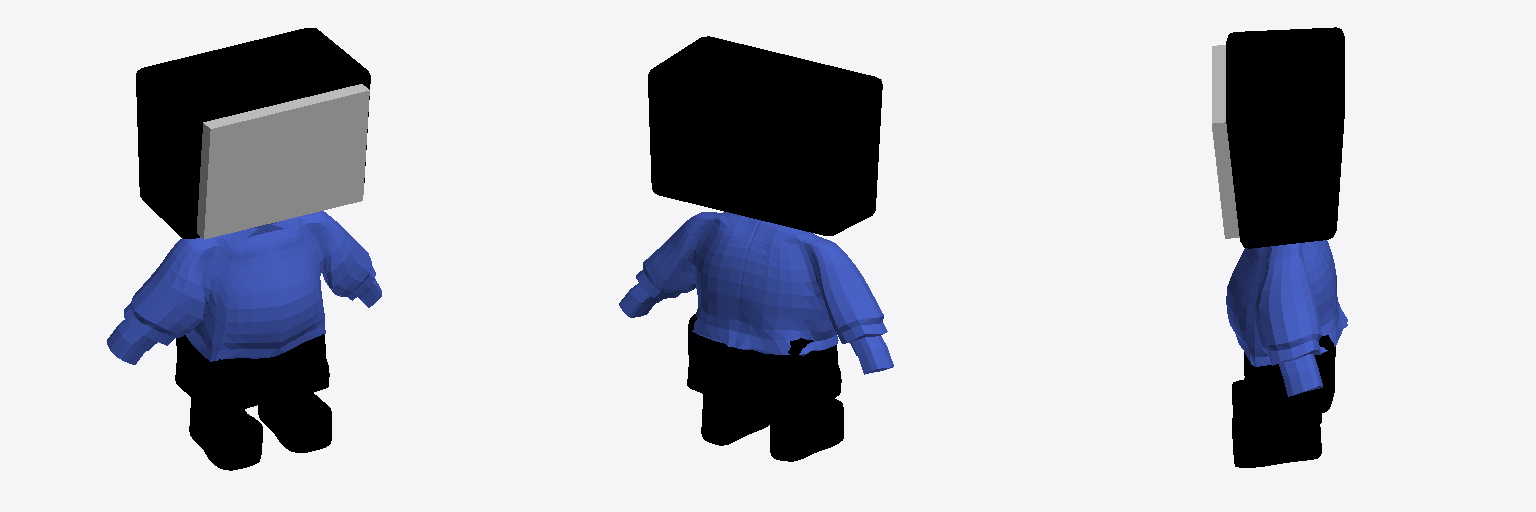
File: Abiyas.obj
3 views of the same model, side by side, from view 1: azimuth 30°, elevation 25°; view 2: azimuth 150°, elevation 25°; view 3: azimuth 270°, elevation 25° (orthographic).
Visible parts, largest first — view 1: Head, Torso, Legs; view 2: Head, Torso, Legs; view 3: Head, Torso, Legs.
Boxes of the visible parts, <box> form: Head: <box>136,28,370,239</box>; Torso: <box>107,211,381,364</box>; Legs: <box>175,334,331,470</box>; Head: <box>648,36,882,235</box>; Torso: <box>619,212,893,374</box>; Legs: <box>687,314,843,461</box>; Head: <box>1212,27,1344,248</box>; Torso: <box>1226,240,1347,396</box>; Legs: <box>1232,335,1335,467</box>.
Size of the model in its own units: 2.28 by 3.04 by 1.01.